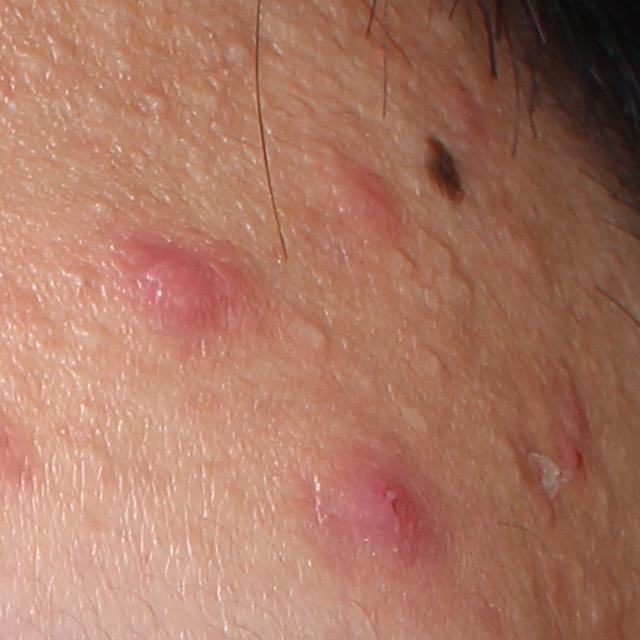comedo: (299, 322, 331, 360), (406, 407, 440, 441), (110, 45, 143, 76), (226, 36, 255, 65), (89, 196, 119, 221), (139, 90, 167, 114)
nevus: (425, 132, 466, 201)
papule: (115, 236, 246, 338), (341, 447, 437, 564), (324, 151, 406, 236)
